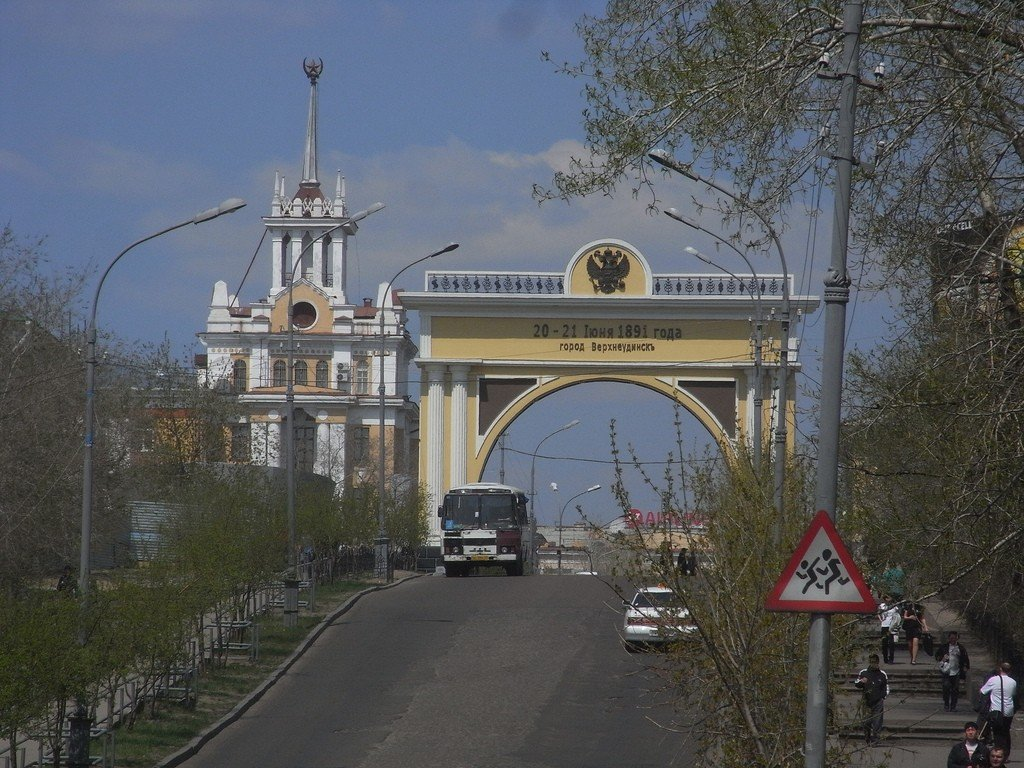sign: (761, 508, 885, 619)
